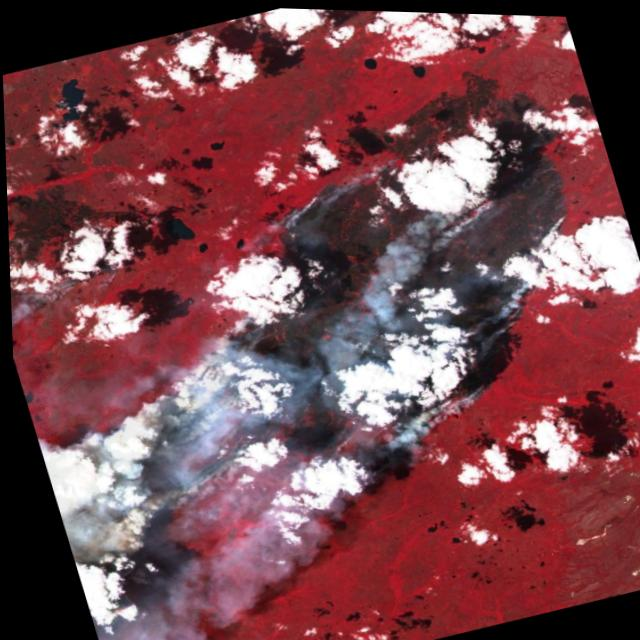fire: (468, 265, 560, 341), (412, 182, 511, 248), (317, 139, 409, 203), (412, 370, 503, 430), (265, 185, 331, 236), (216, 301, 276, 357), (534, 200, 584, 246)
